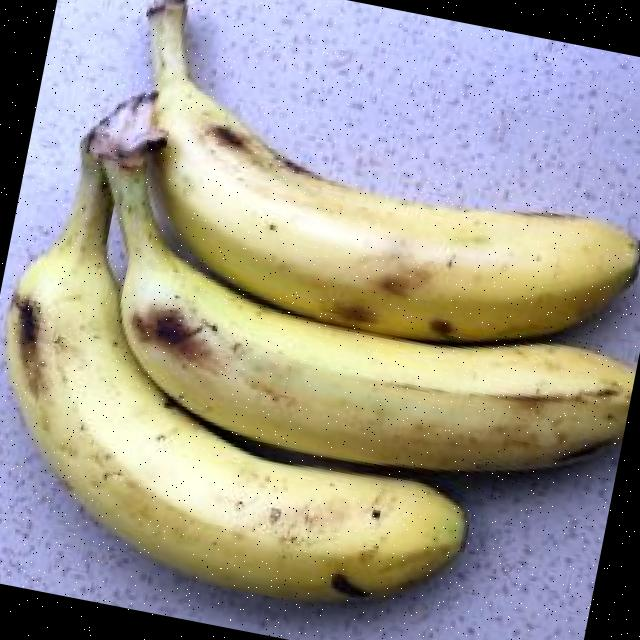banana: (5, 152, 464, 599), (149, 0, 639, 342), (105, 161, 636, 469)
